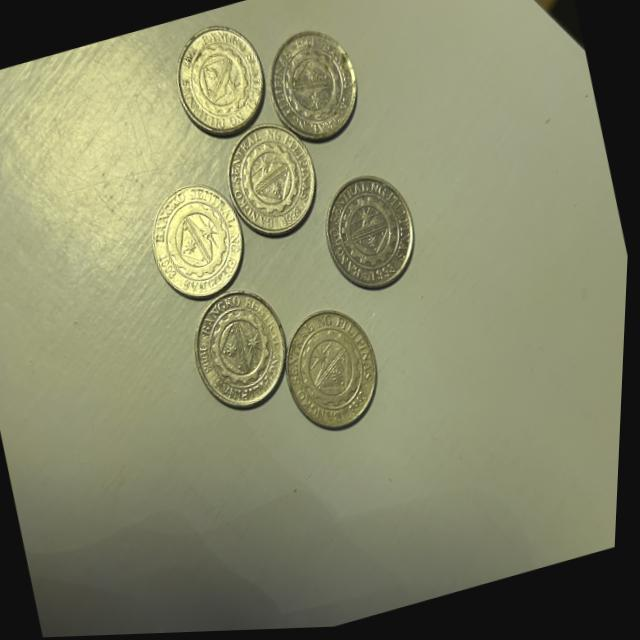1_Old_Back: (289, 314, 382, 426), (199, 297, 288, 405), (153, 189, 243, 293), (228, 129, 314, 236), (268, 32, 354, 133), (328, 184, 415, 283), (179, 29, 263, 131)
